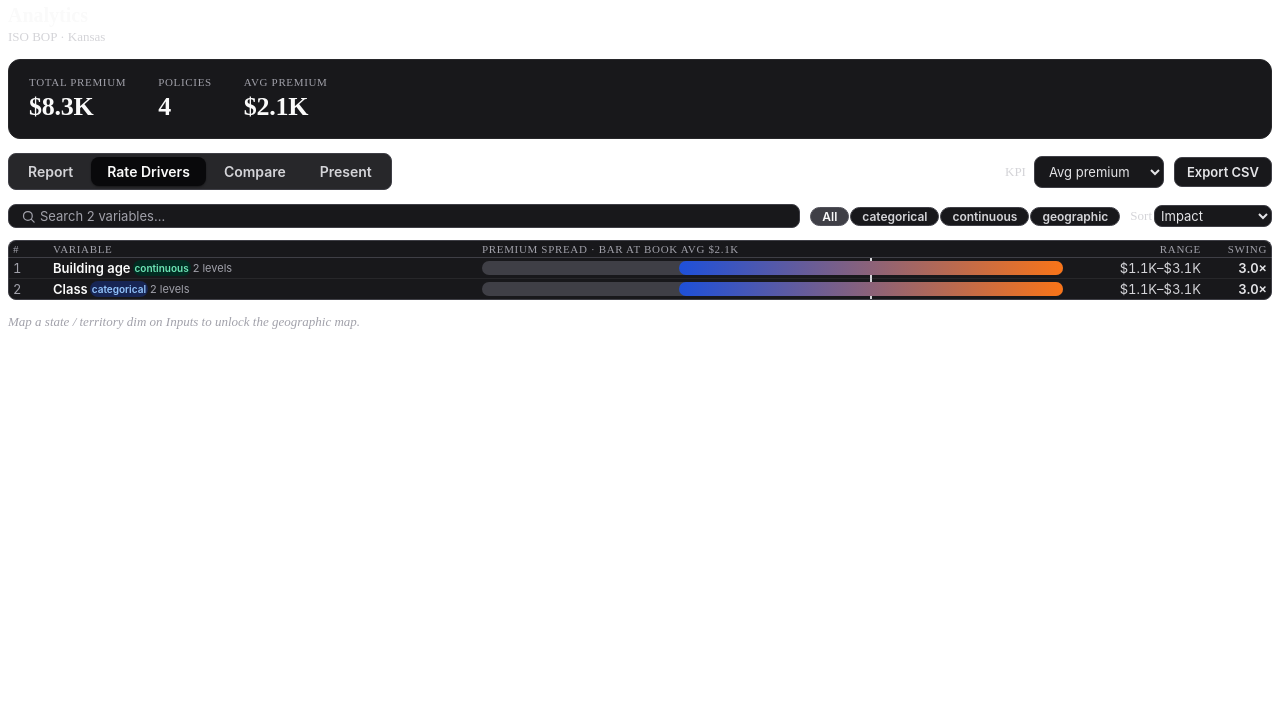
Test: <AnalyticsWorkspaceV2> › drills into a variable's detail when a driver is clicked
Click the button with test id "rater-analytics-drivers-row-cls" at [640, 288], box x1=9 y1=278 x2=1271 y2=299
(page scrolled)
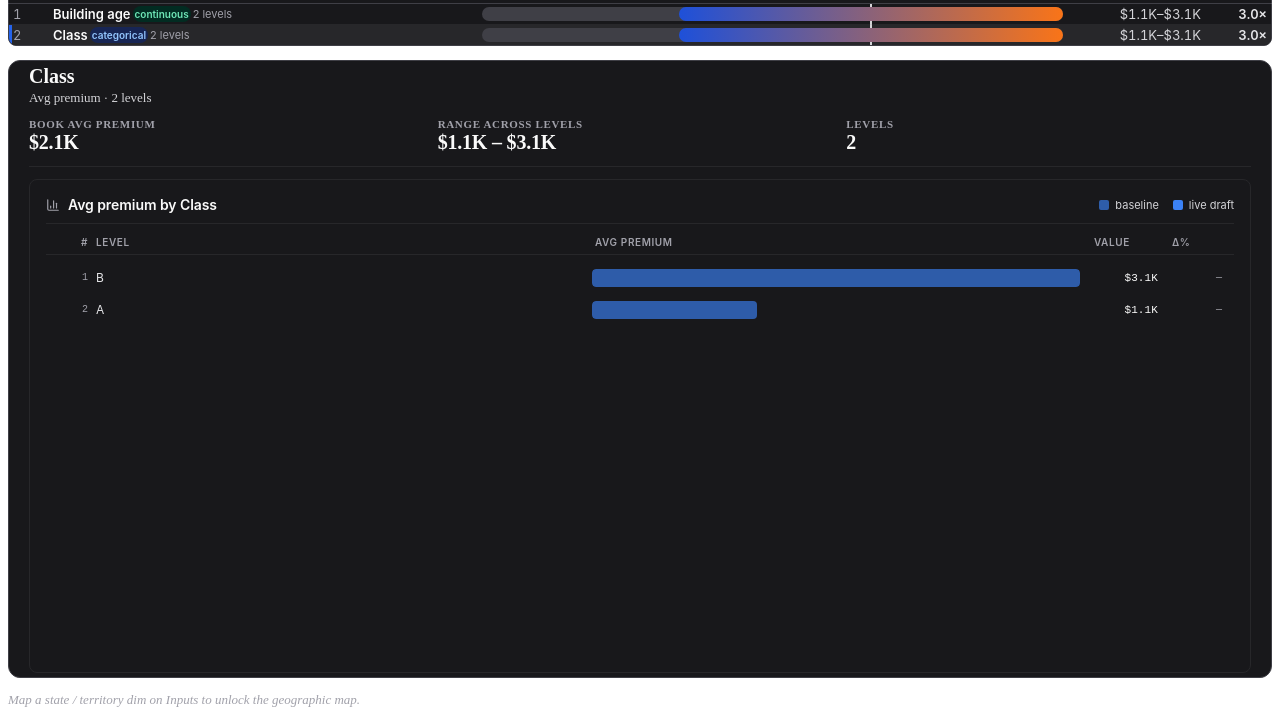
Expected: the element with test id "rater-analytics-detail" is shown
